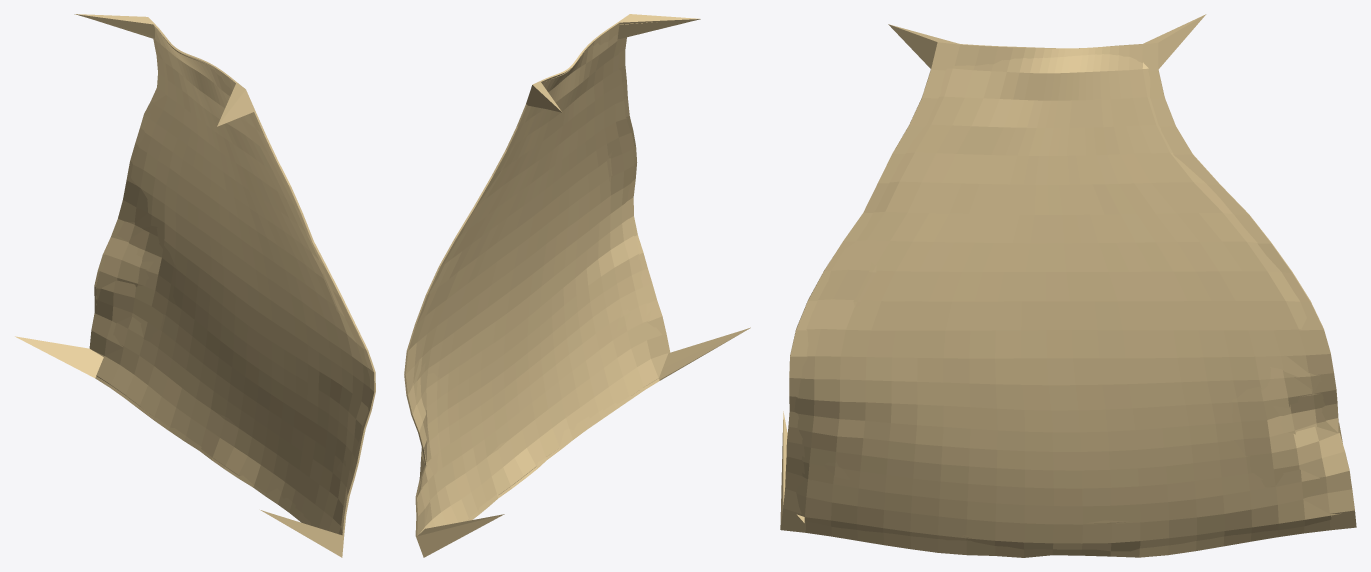
Rendered from VelaExtrudada.fbx.
3 views of the same model, side by side, from view 1: azimuth 30°, elevation 25°; view 2: azimuth 150°, elevation 25°; view 3: azimuth 270°, elevation 25° (orthographic). The views are drawn at different scales.
Visible parts, largest first — view 1: Plane; view 2: Plane; view 3: Plane.
Boxes of the visible parts, x1,y1,x2,y2 form: Plane: [15, 14, 375, 557]; Plane: [404, 14, 750, 557]; Plane: [780, 14, 1356, 557].
Bounding box in the file's own units: 99.06 × 339 × 361.
